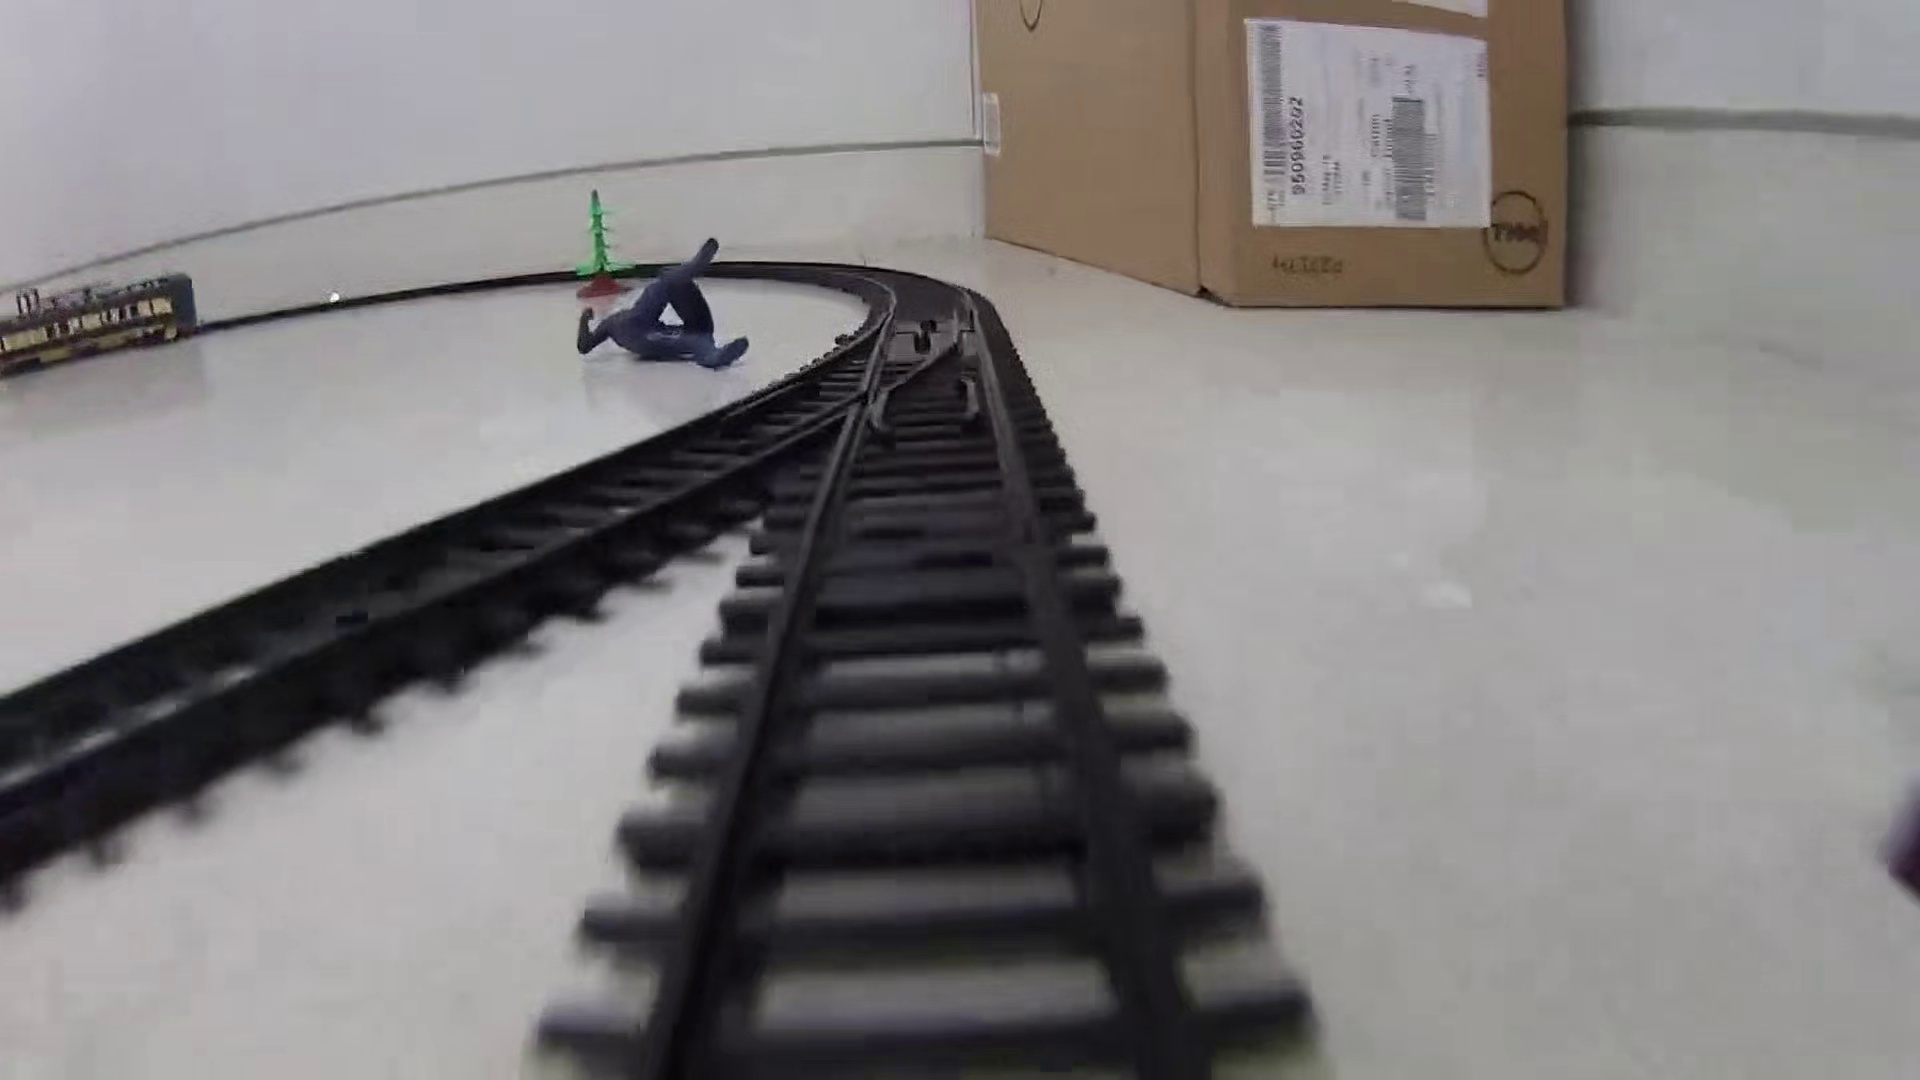people: (569, 235, 753, 370)
tree: (577, 187, 638, 305)
